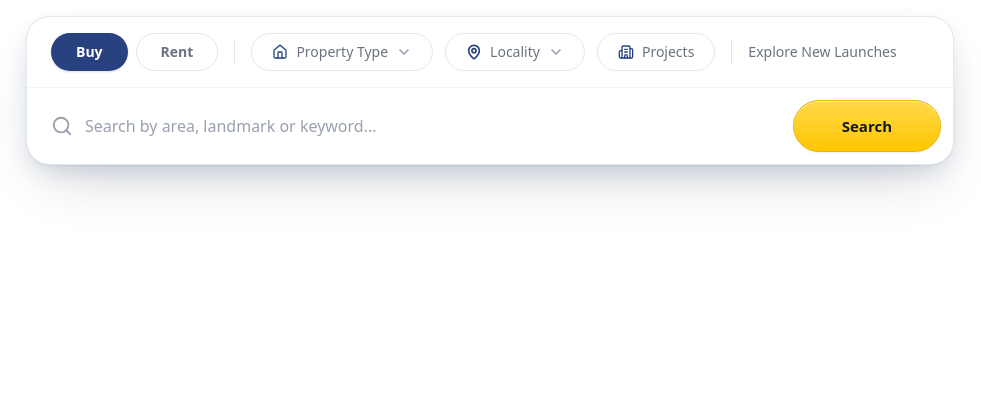
HomeSearch responsive search bar › keeps a portaled menu open long enough to select an option
What coordinates should you click on to do the following:
click the button "Property Type"
I would click on:
 (342, 52)
Its box is [251, 33, 433, 71].
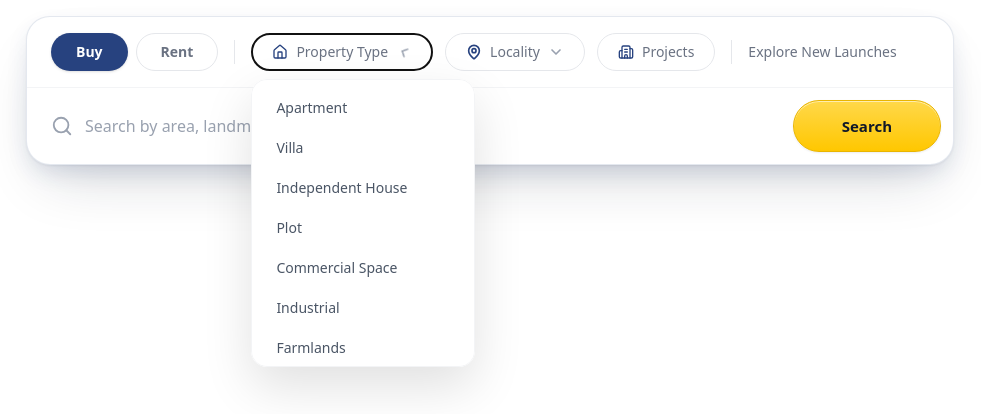
What coordinates should you click on to do the following:
click the option "Apartment"
I would click on:
 (363, 108)
Its box is [260, 88, 466, 128].
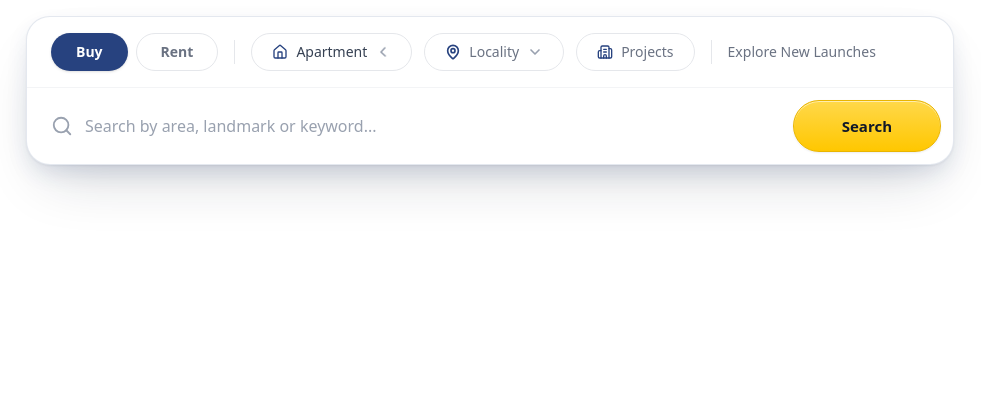
Now the button "Apartment" is shown, box [251, 33, 412, 71]
